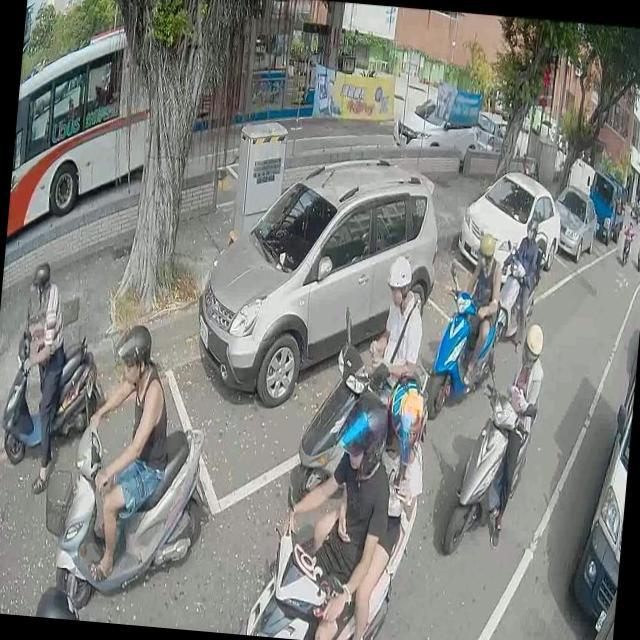person: (259, 370, 402, 640), (305, 372, 429, 640), (71, 313, 178, 592), (482, 311, 544, 551), (8, 256, 72, 486), (359, 254, 426, 416), (446, 218, 504, 388), (506, 218, 548, 344), (36, 565, 84, 620), (624, 221, 632, 236)
